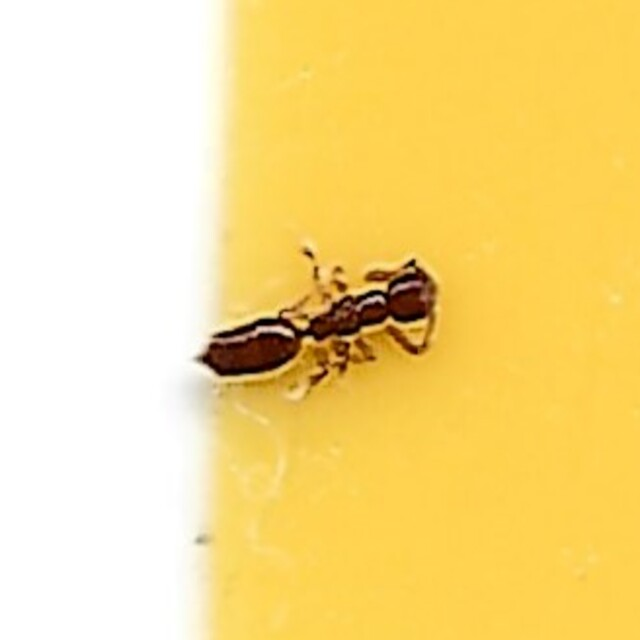Hymenoptera: (195, 238, 445, 402)
